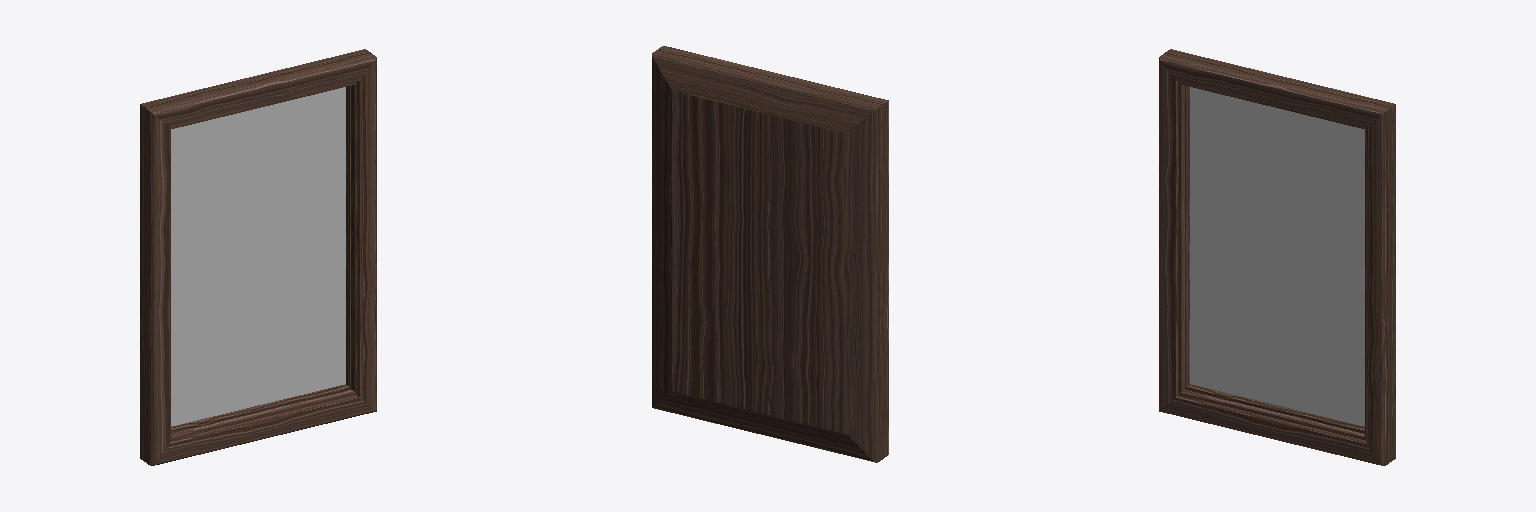
The picture shows the model from 3 angles: view 1: azimuth 30°, elevation 25°; view 2: azimuth 150°, elevation 25°; view 3: azimuth 330°, elevation 25°; orthographic projection.
Parts seen in each view (by area): view 1: PictureFrame; view 2: PictureFrame; view 3: PictureFrame.
Boxes of the visible parts, x1,y1,x2,y2 form: PictureFrame: [140, 49, 376, 465]; PictureFrame: [652, 46, 888, 462]; PictureFrame: [1159, 49, 1395, 465].
Size of the model in its own units: 6.1 by 9.14 by 0.8327.
Materials: 2 (1 with a texture image).